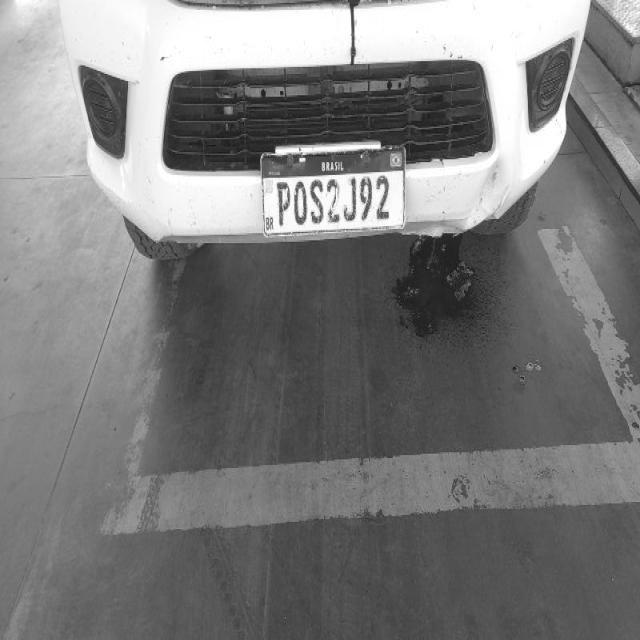placa_mercosul: (262, 150, 403, 235)
